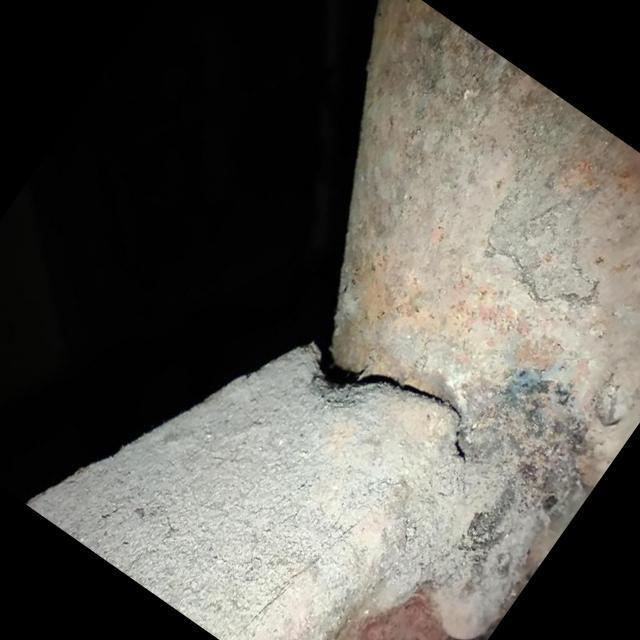defect: (304, 341, 473, 469)
